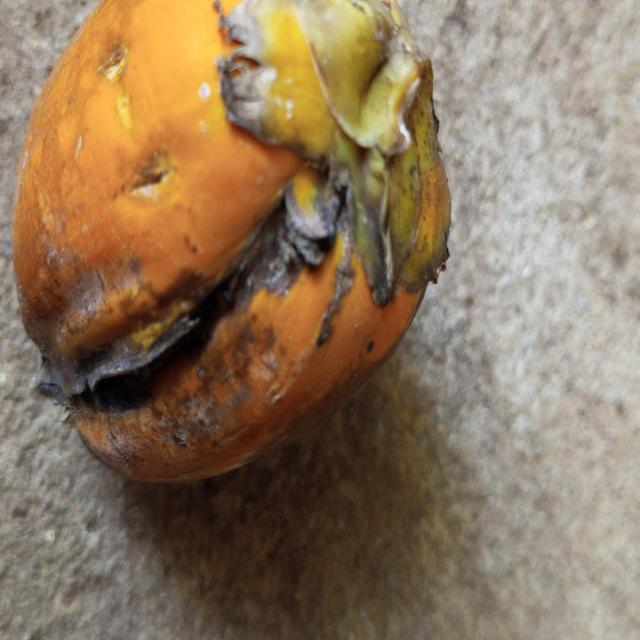damaged: (13, 0, 450, 479)
